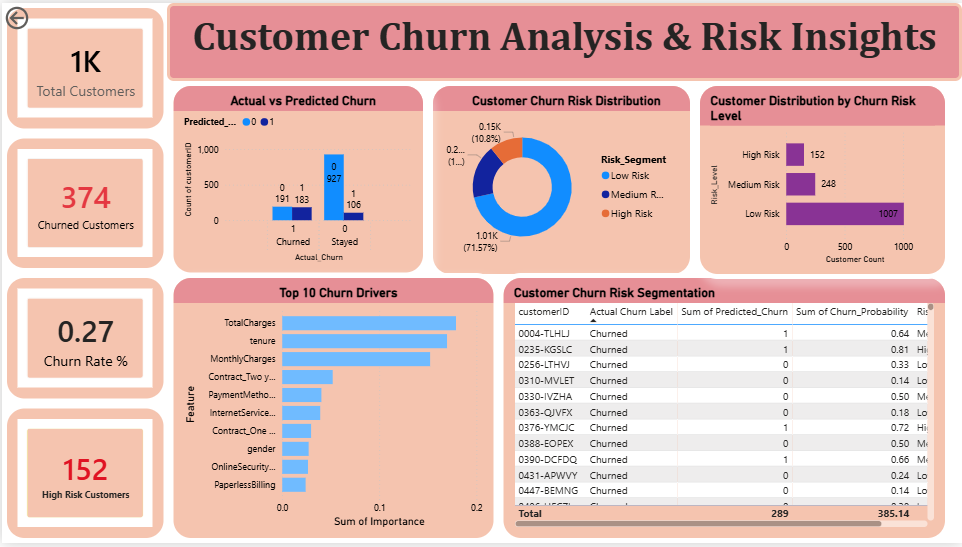

What the dashboard file says about the page in this screenshot:
{"tool":"powerbi","page":{"name":"Executive Dashboard","canvas":[1280,720],"ordinal":0},"visuals":[{"type":"cardVisual","fields":{"Data":["churn_predictions.Total Customers"]},"box":[0,0,222,174],"z":0},{"type":"cardVisual","fields":{"Data":["churn_predictions.Churned Customers"]},"box":[0,174,222,186],"z":1000},{"type":"cardVisual","fields":{"Data":["churn_predictions.Churn Rate %"]},"box":[0,360,222,174],"z":2000},{"type":"donutChart","title":"Customer Churn Risk Distribution","fields":{"Category":["churn_predictions.Risk_Segment"],"Y":["CountNonNull(churn_predictions.customerID)"]},"box":[568,104,356,264],"z":3000},{"type":"clusteredColumnChart","title":"Actual vs Predicted Churn","fields":{"Category":["churn_predictions.Actual Churn Label","churn_predictions.Actual_Churn"],"Y":["CountNonNull(churn_predictions.customerID)"],"Series":["churn_predictions.Predicted_Churn"]},"box":[222,104,346,262],"z":4000},{"type":"barChart","title":"Top 10 Churn Drivers","fields":{"Category":["feature_importance.Feature"],"Y":["Sum(feature_importance.Importance)"]},"box":[222,360,440,360],"z":5000},{"type":"tableEx","title":"Customer Churn Risk Segmentation","fields":{"Values":["churn_predictions.customerID","churn_predictions.Actual Churn Label","Sum(churn_predictions.Predicted_Churn)","Sum(churn_predictions.Churn_Probability)","churn_predictions.Risk_Level"]},"box":[662,360,602,360],"z":6000},{"type":"actionButton","box":[0,0,100,40],"z":7000},{"type":"clusteredBarChart","title":"Customer Distribution by Churn Risk Level","fields":{"Category":["churn_predictions.Risk_Level"],"Y":["churn_predictions.Customer Count"]},"box":[924,104,340,264],"z":8000},{"type":"cardVisual","fields":{"Data":["churn_predictions.High Risk Customers"]},"box":[0,534,222,186],"z":9000},{"type":"textbox","box":[220,0,1060,104],"z":10000}]}

Visuals, with their boxes in screenshot pixels (x1, y1, x2, y2), scaled from the page's 1280x720 canvas onto the 962x547 screenshot:
cardVisual - churn_predictions.Total Customers: 0/0/167/132
cardVisual - churn_predictions.Churned Customers: 0/132/167/274
cardVisual - churn_predictions.Churn Rate %: 0/274/167/406
"Customer Churn Risk Distribution" donutChart: 427/79/694/280
"Actual vs Predicted Churn" clusteredColumnChart: 167/79/427/278
"Top 10 Churn Drivers" barChart: 167/274/498/546
"Customer Churn Risk Segmentation" tableEx: 498/274/950/546
actionButton: 0/0/75/30
"Customer Distribution by Churn Risk Level" clusteredBarChart: 694/79/950/280
cardVisual - churn_predictions.High Risk Customers: 0/406/167/546
textbox: 165/0/961/79
